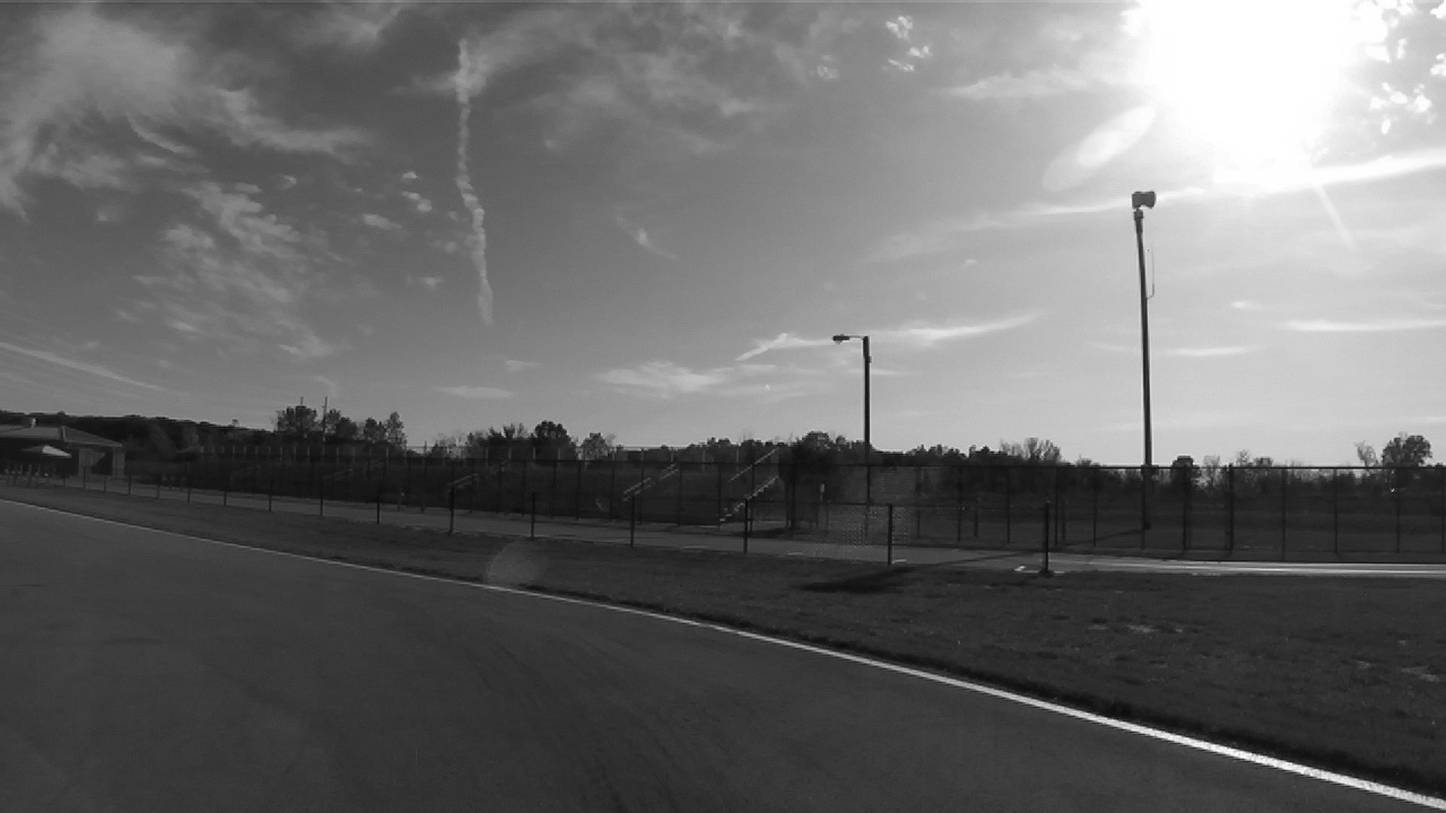white-line: (357, 566, 1445, 810)
